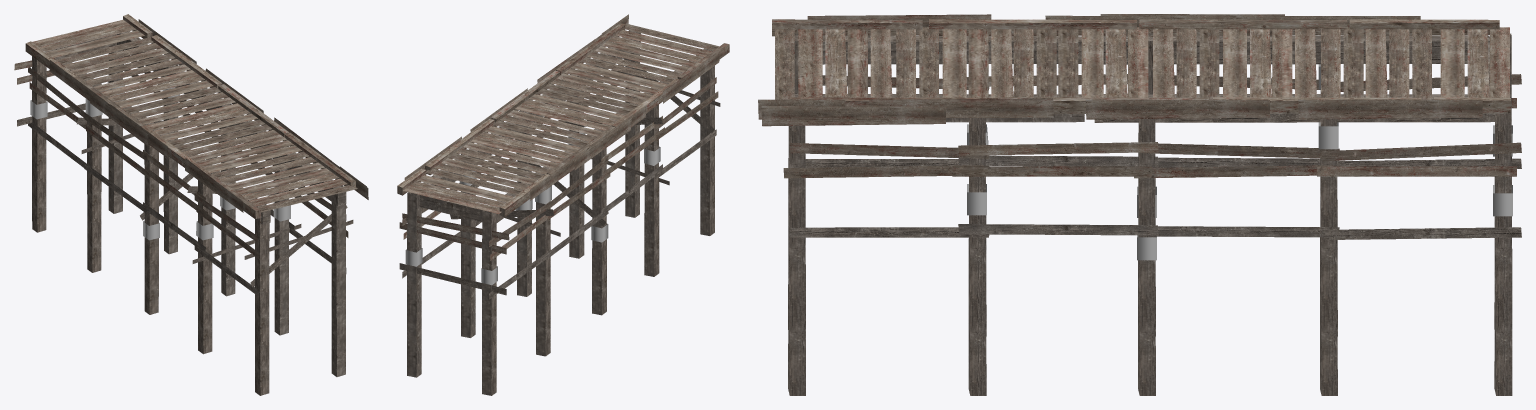
File: Pier2_LOD1.fbx
3 views of the same model, side by side, from view 1: azimuth 30°, elevation 25°; view 2: azimuth 150°, elevation 25°; view 3: azimuth 270°, elevation 25° (orthographic). The views are drawn at different scales.
Parts seen in each view (by area): view 1: polySurface873; view 2: polySurface873; view 3: polySurface873.
Part boxes in pixels (left/top/right/bottom): polySurface873: left=14, top=14, right=368, bottom=395; polySurface873: left=397, top=14, right=729, bottom=395; polySurface873: left=758, top=14, right=1521, bottom=395.
Size of the model in its own units: 3.4 by 5.33 by 12.02.
